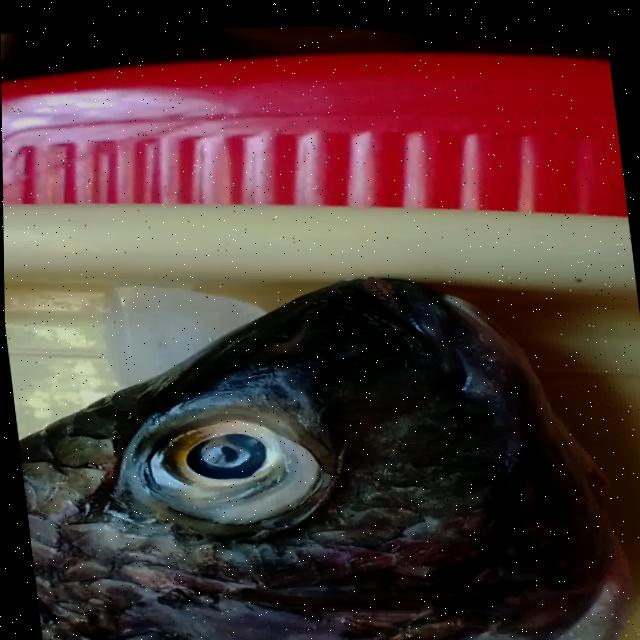Fresh: (115, 368, 338, 556)
